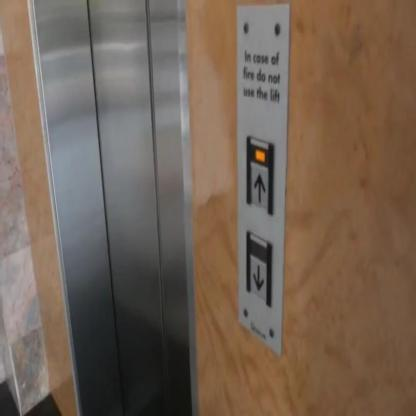down: (245, 228, 273, 308)
up: (245, 134, 274, 215)
